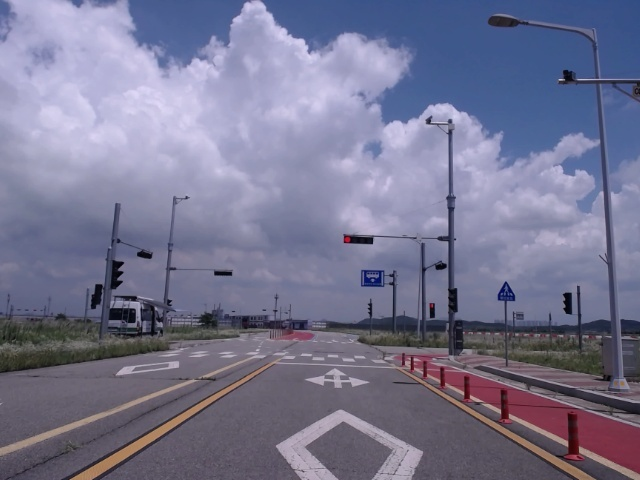red_4: (344, 236, 373, 245)
